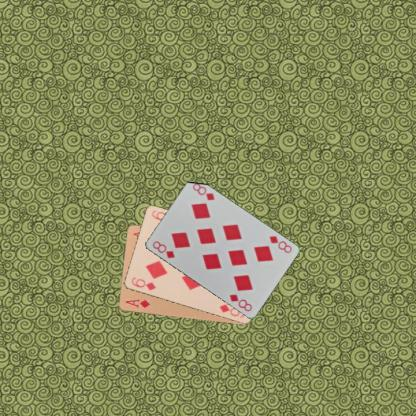6d: (129, 274, 156, 292)
8d: (266, 232, 293, 254), (150, 238, 176, 259)
Ad: (122, 296, 151, 310)
